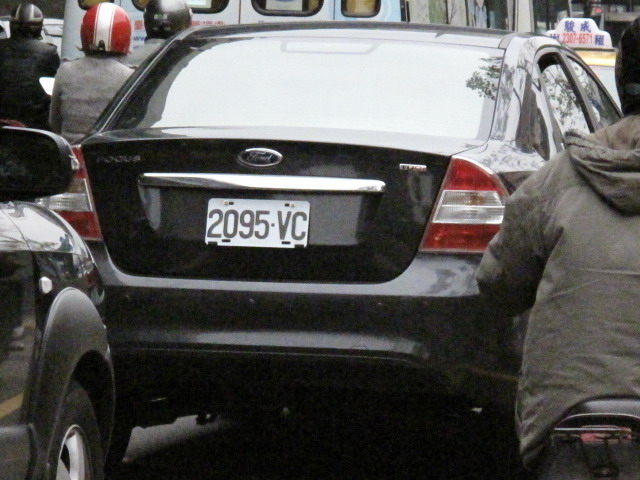plate: (203, 196, 313, 253)
